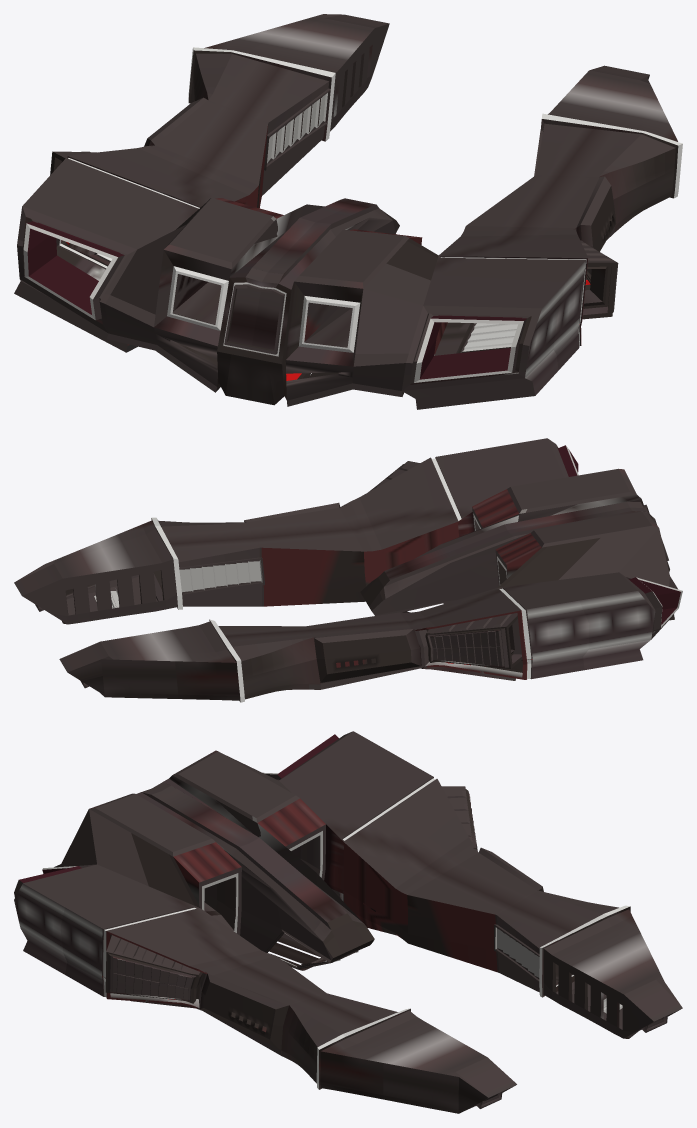
The model's file is space_ship4.glb.
3 renders of one model, top to bottom at view 1: azimuth 30°, elevation 25°; view 2: azimuth 150°, elevation 25°; view 3: azimuth 270°, elevation 25°, orthographic. The views are drawn at different scales.
Visible parts, largest first — view 1: Object_7; view 2: Object_7; view 3: Object_7.
Boxes of the visible parts, x1,y1,x2,y2 form: Object_7: (14, 14, 682, 409); Object_7: (14, 438, 682, 702); Object_7: (14, 731, 682, 1113).
Bounding box in the file's own units: 5.72 × 1.27 × 5.6.
Materials: 1 (1 with a texture image).
